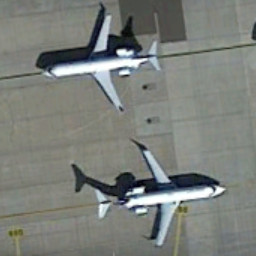Airplane: (77, 141, 236, 254), (25, 6, 170, 123)
